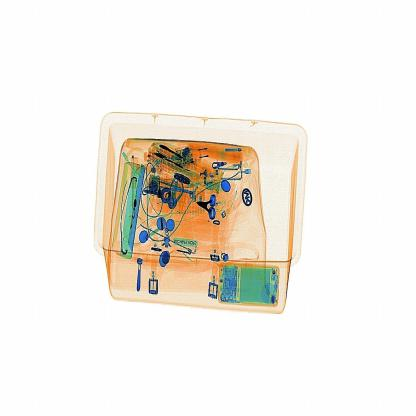gun: (190, 185, 226, 220)
